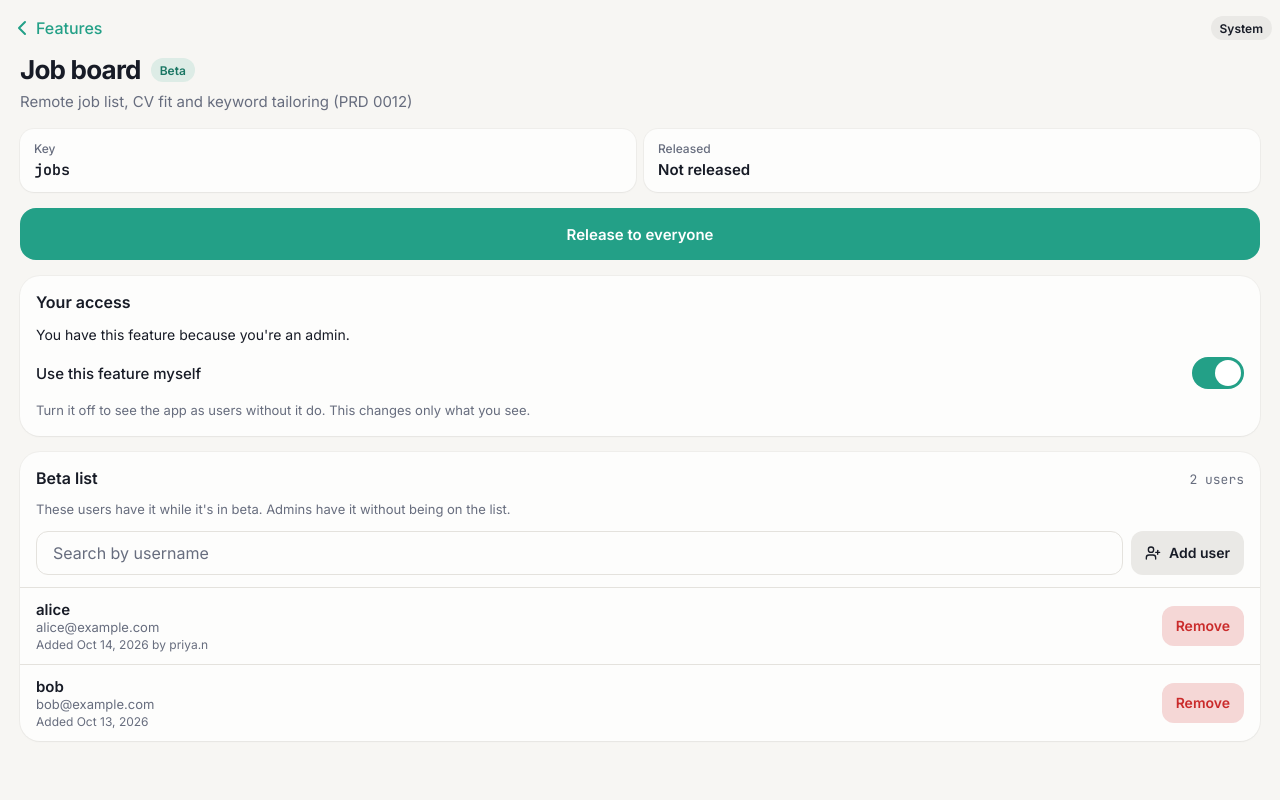
Test: a feature's page below md › says no member matches in its own words, and Clear search shows the list at once
Expected: the text "alice" is shown, [36,600,70,619]
In the search field named "Search the beta list": [579, 553] box [36,531,1123,575], type "zed"
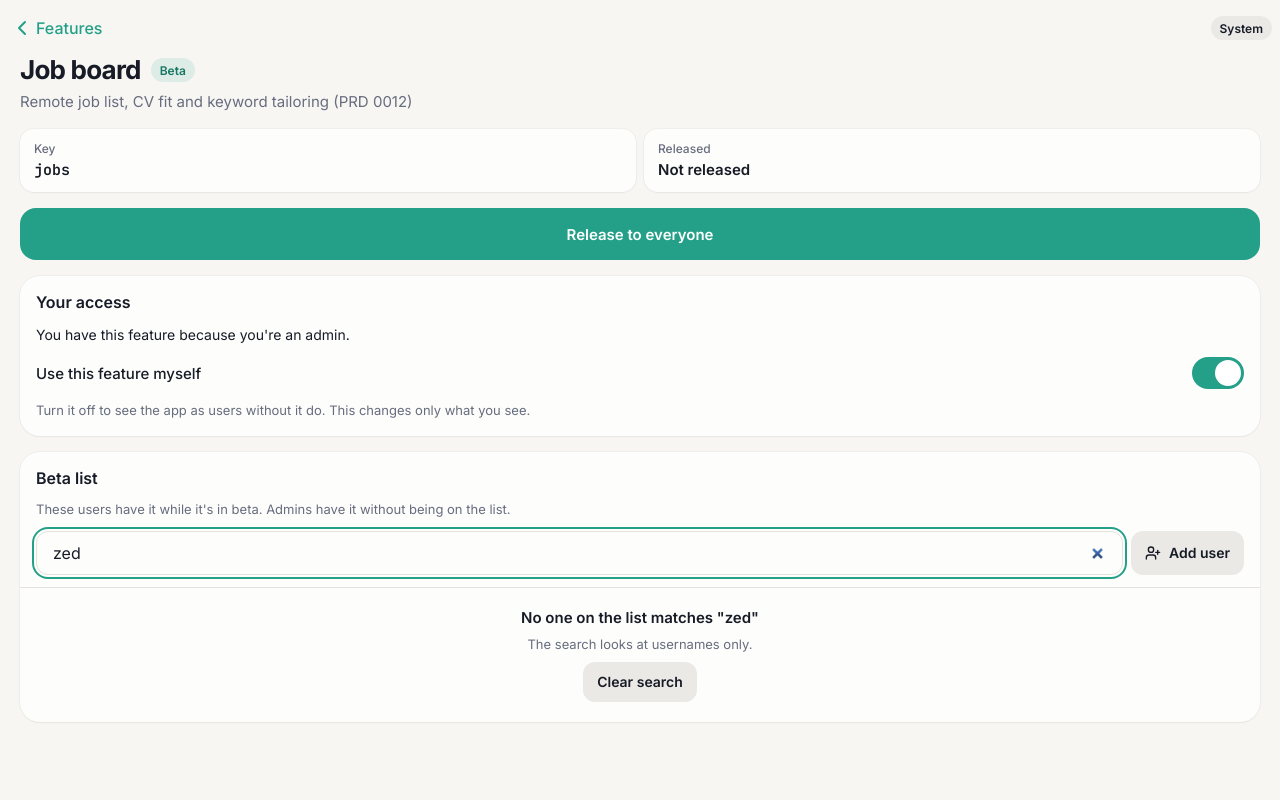
Expected: the text "No one on the list matches \"zed\"" is shown, [521,608,759,627]
Expected: the text "The search looks at usernames only." is shown, [528,635,753,654]
Click the button "Clear search": [640, 682] box [583,660,697,704]
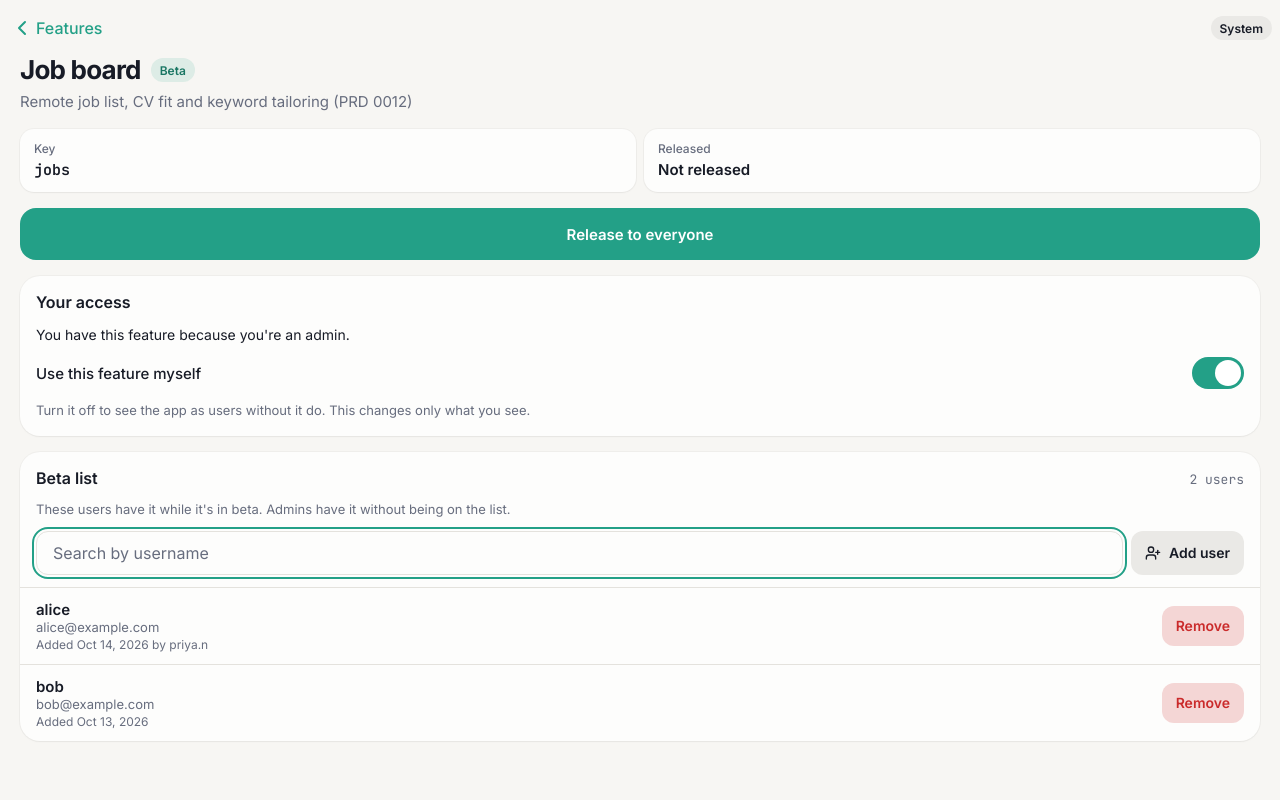
Expected: the search field named "Search the beta list" is empty, [36,531,1123,575]
